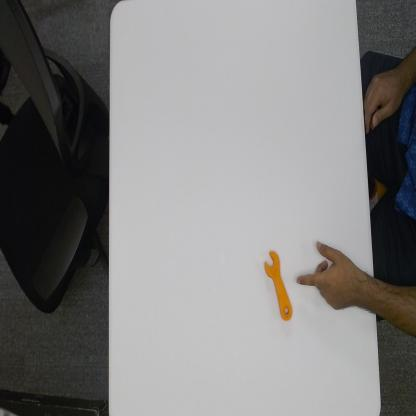Hand: (295, 237, 370, 314)
Screwdriver: (262, 246, 295, 324)
